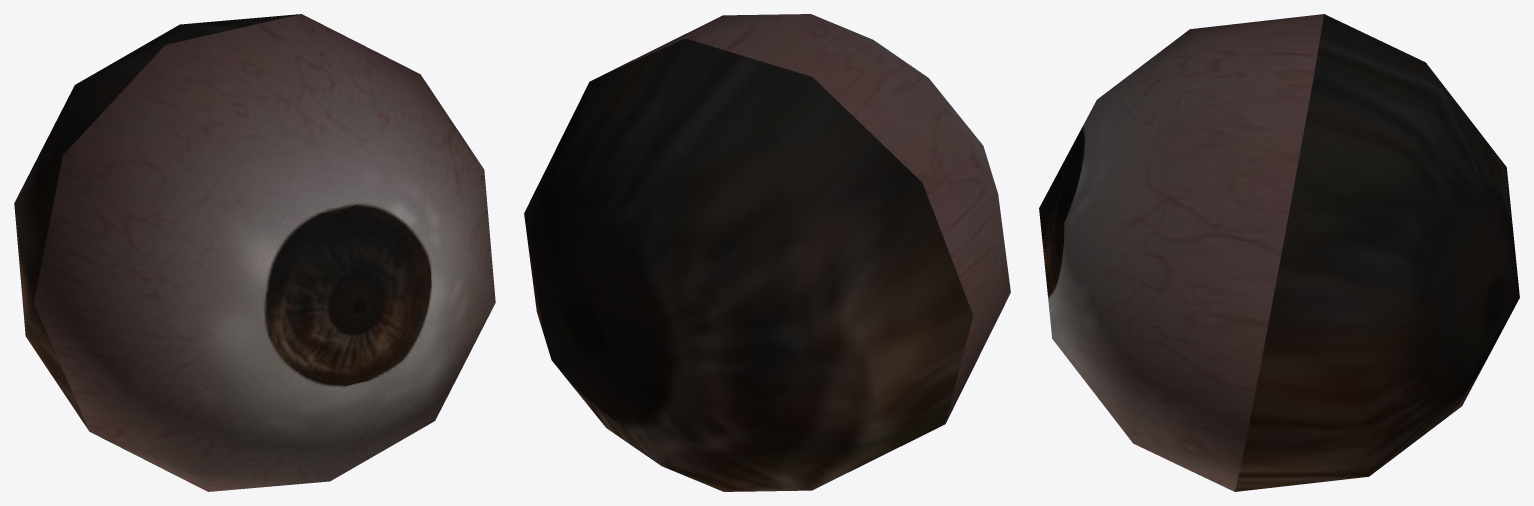
File: left_eye.glb
3 views of the same model, side by side, from view 1: azimuth 30°, elevation 25°; view 2: azimuth 150°, elevation 25°; view 3: azimuth 270°, elevation 25° (orthographic).
Visible parts, largest first — view 1: Icosphere.002; view 2: Icosphere.002; view 3: Icosphere.002.
Part boxes in pixels (x1,y1,x2,y2): Icosphere.002: (14,14,495,491); Icosphere.002: (524,14,1010,491); Icosphere.002: (1039,14,1519,491).
Size of the model in its own units: 0.7667 by 0.7356 by 0.7555.
1 material, 1 textured.
